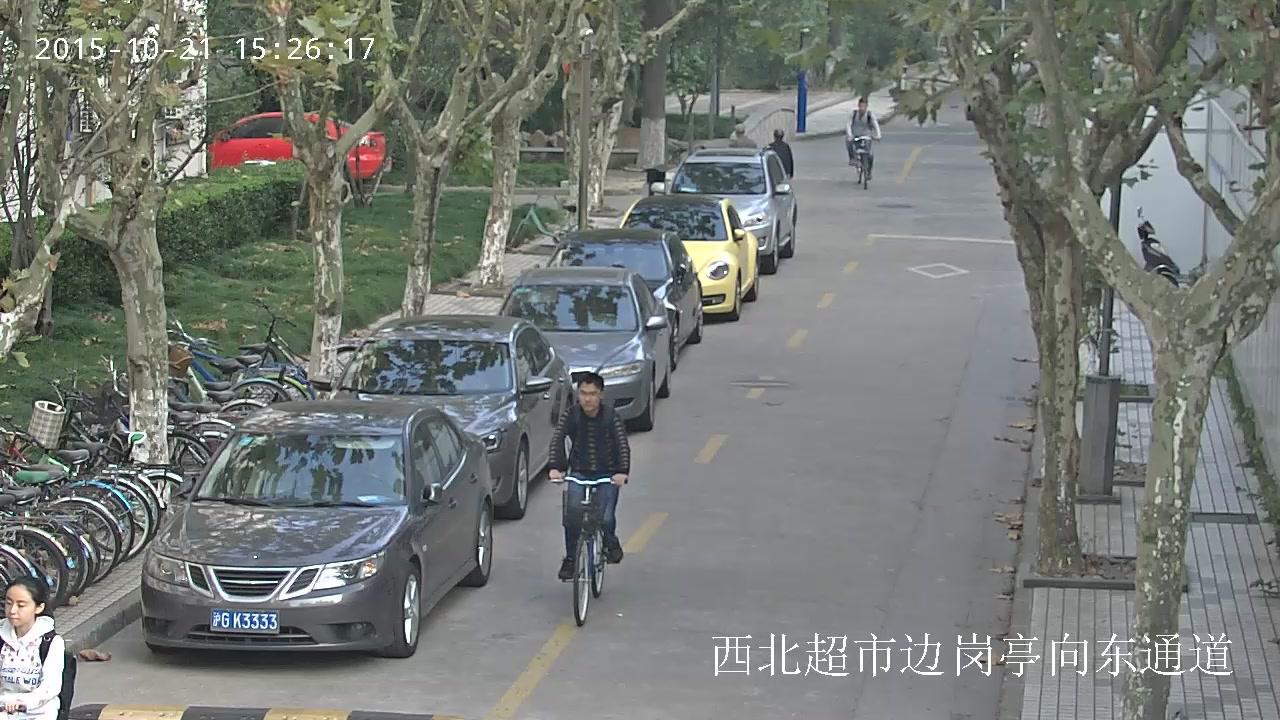person: (542, 371, 631, 625), (545, 371, 631, 582), (0, 575, 77, 720), (846, 96, 881, 190), (846, 96, 880, 180), (763, 128, 793, 179), (726, 122, 757, 149)
